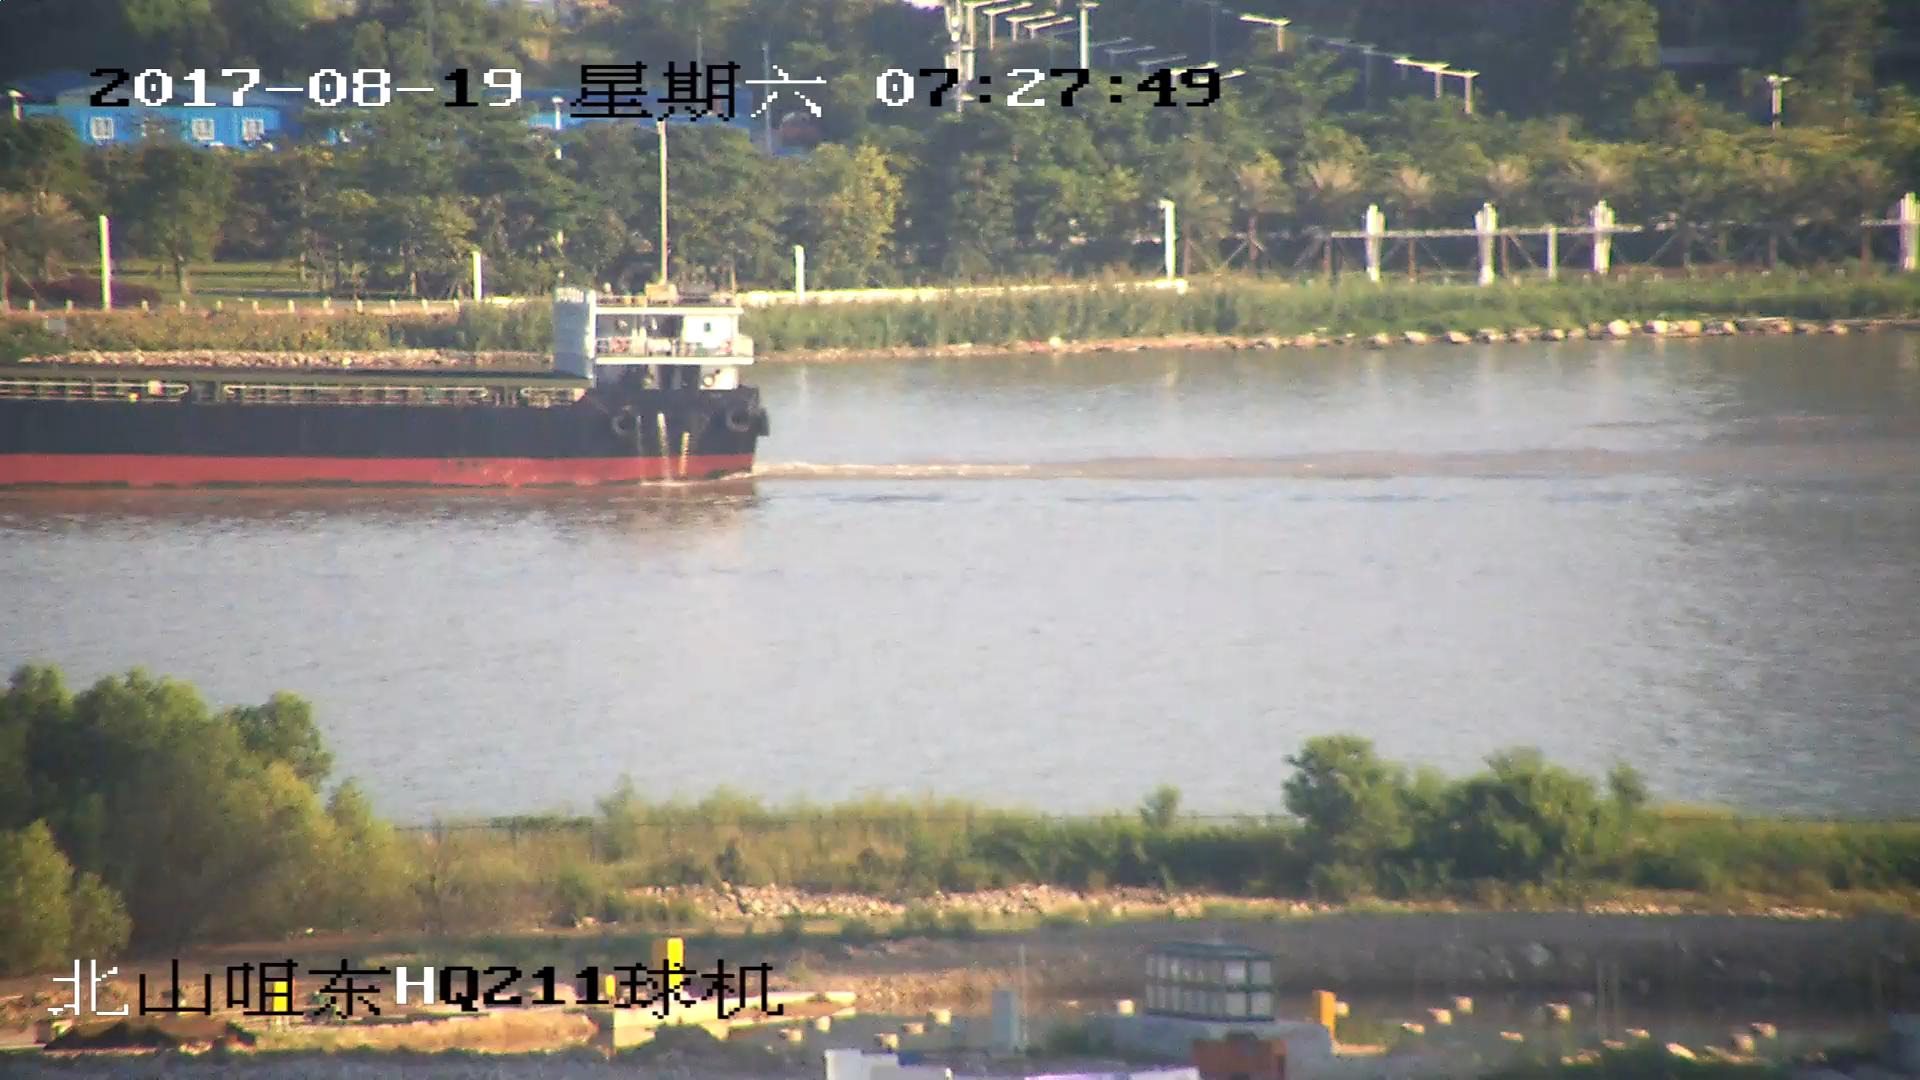general cargo ship: (1, 287, 765, 496)
